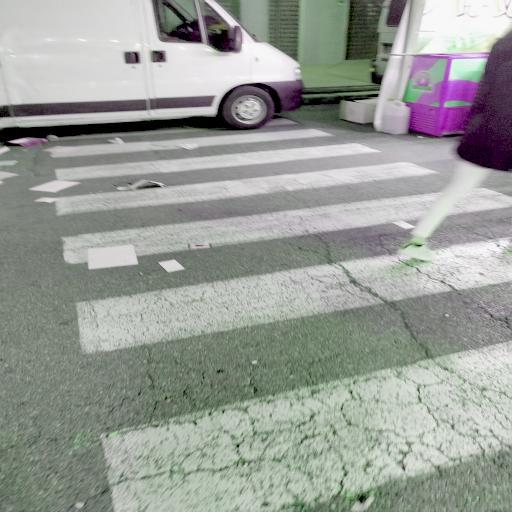crosswalk: (34, 158, 511, 273)
